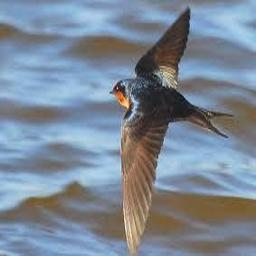Swallow: (109, 7, 234, 255)
